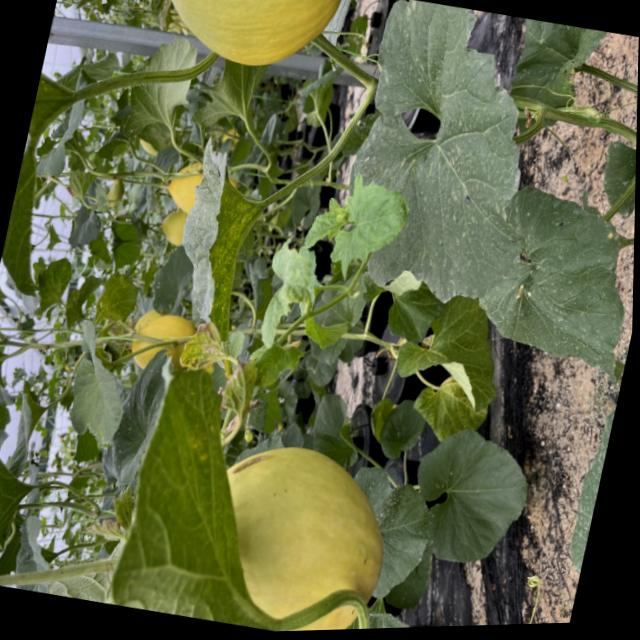CMV: (161, 137, 276, 345), (0, 60, 89, 322)
SLCV: (54, 0, 128, 18)
alternaria leaf blight: (172, 314, 235, 386), (89, 513, 124, 545)
downy mildew: (328, 0, 555, 307), (473, 185, 635, 376)
healthy: (391, 287, 515, 397), (58, 316, 143, 453), (378, 267, 449, 352), (303, 390, 370, 475), (0, 432, 38, 550), (294, 311, 347, 357)
powdery mildew: (396, 415, 542, 579), (502, 15, 601, 110)
